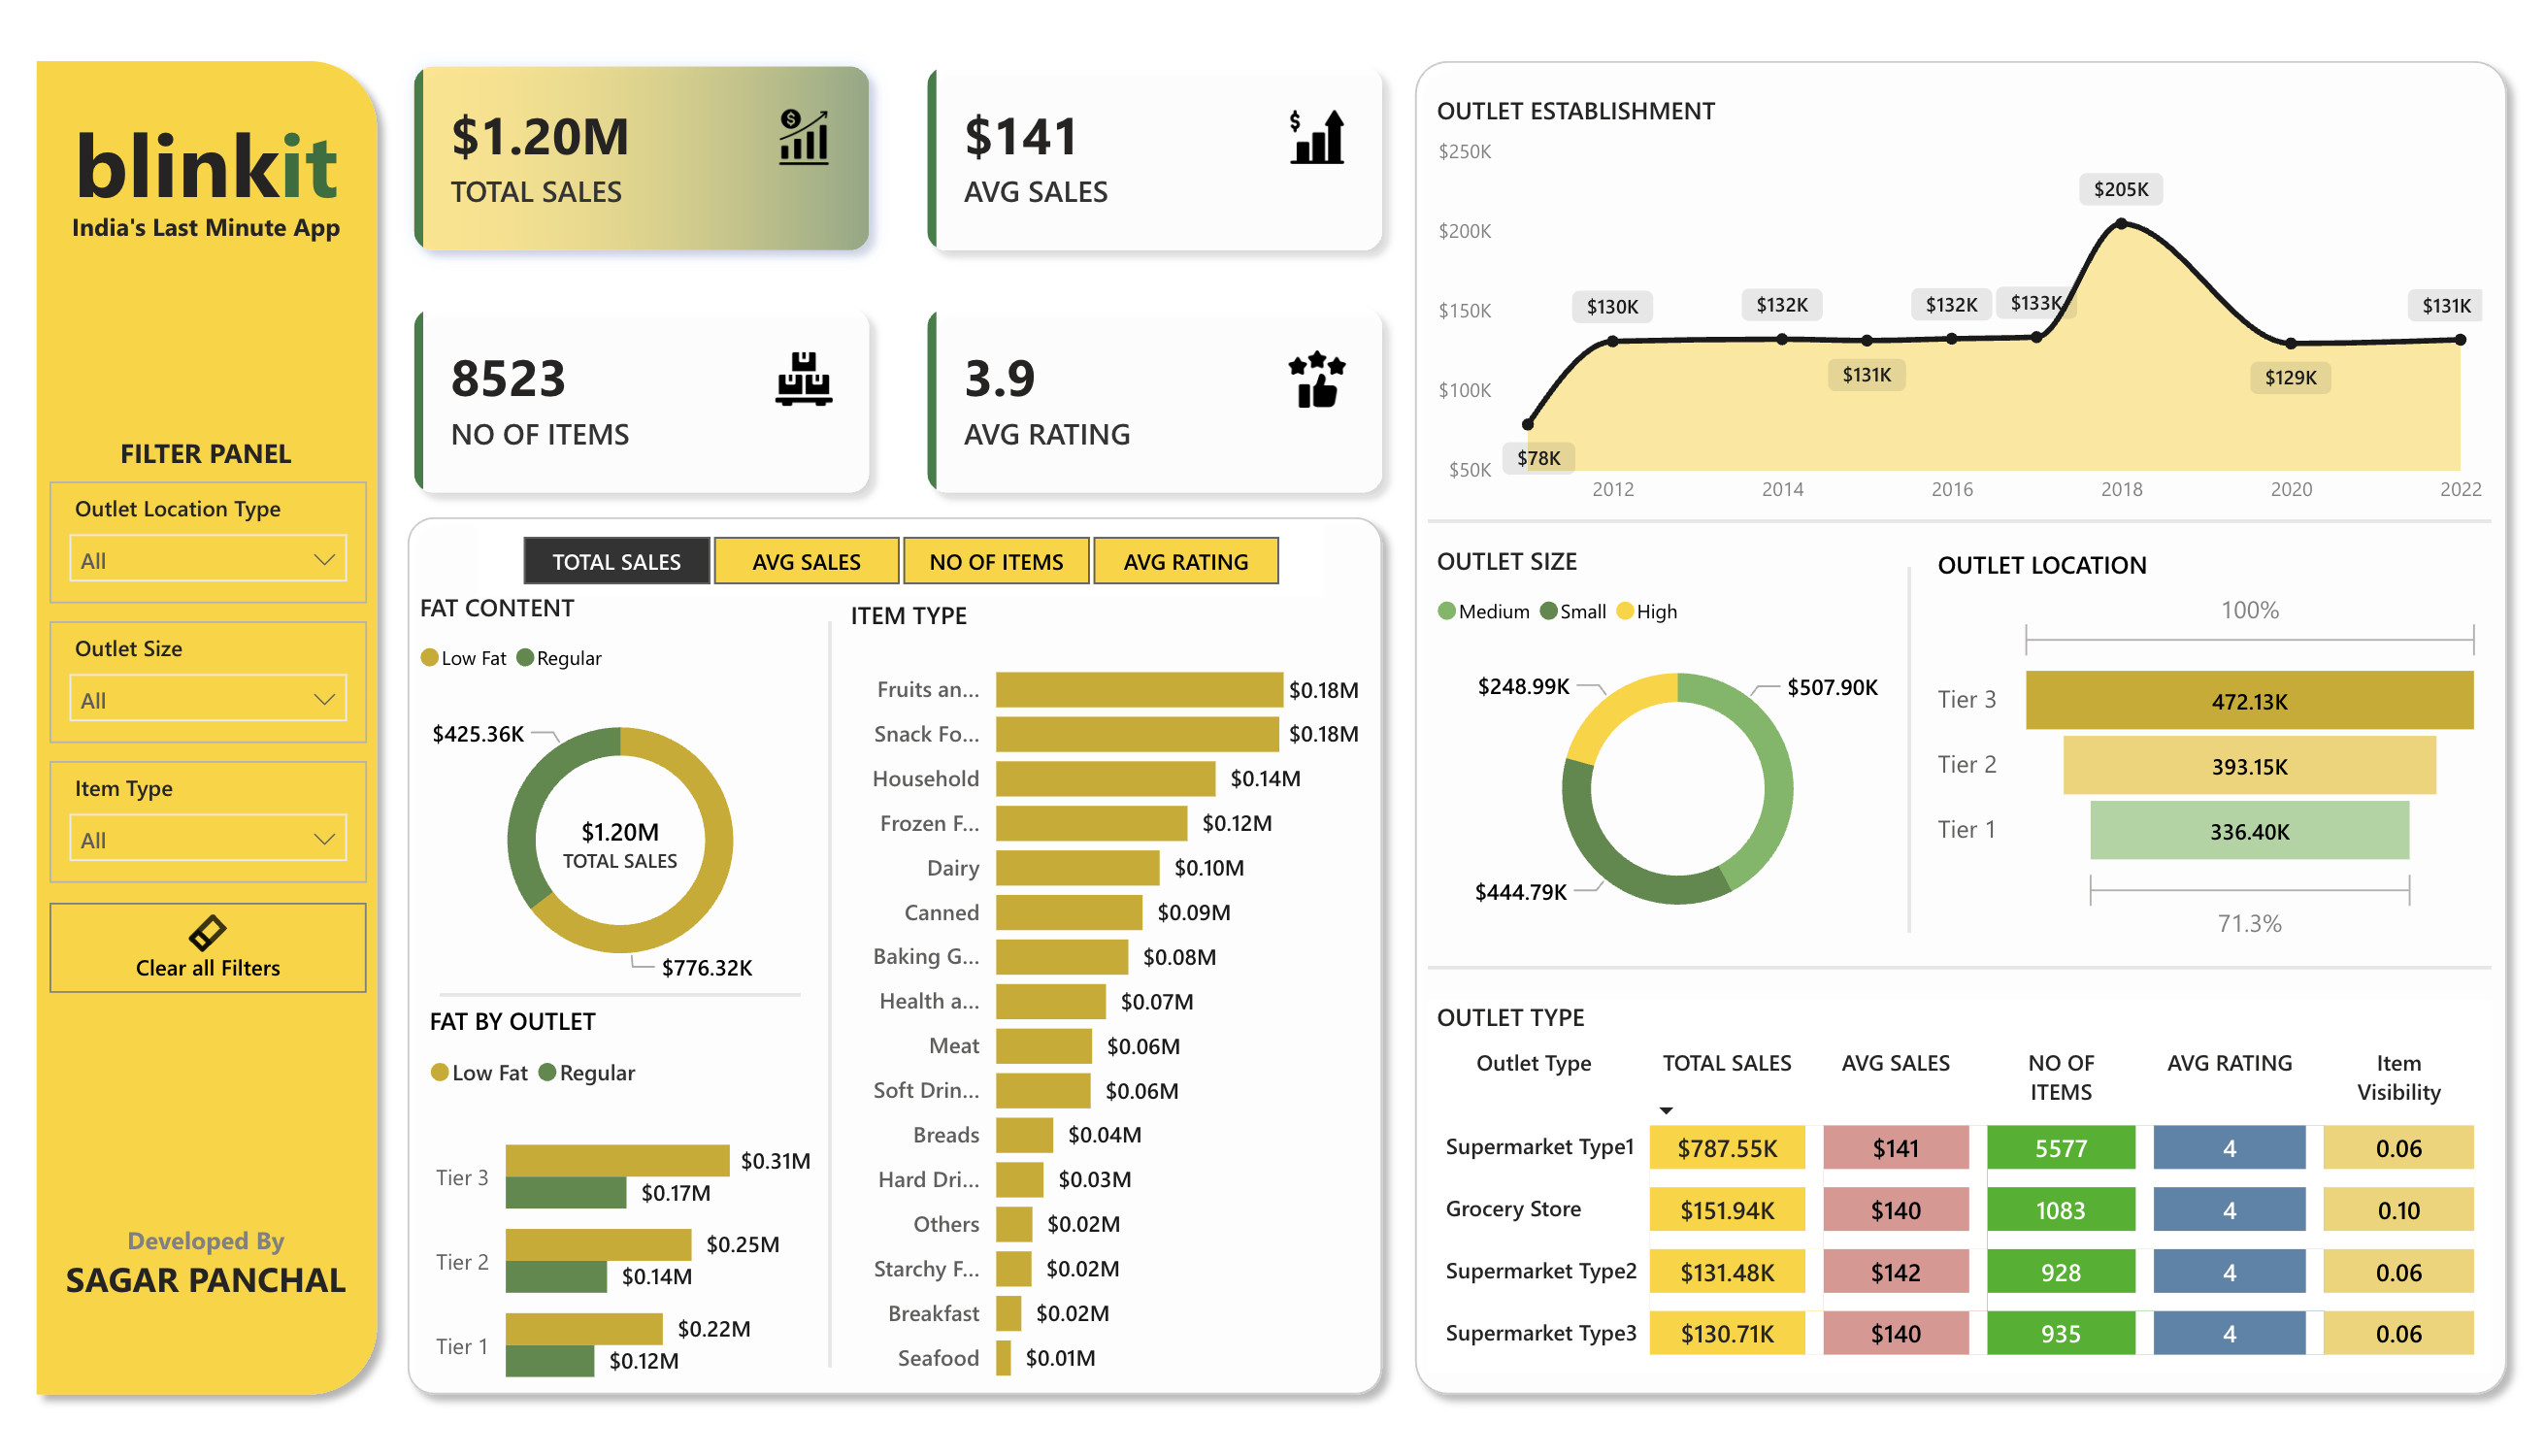

Layout of this report page (visuals, bound fields, positions):
{"tool":"powerbi","page":{"name":"Page 1","canvas":[1400,800],"ordinal":0},"visuals":[{"type":"shape","box":[12.1,24.1,205,750.7],"z":0},{"type":"textbox","box":[24,51,178.6,79.5],"z":1000},{"type":"textbox","box":[24,109.6,178.6,55.5],"z":2000},{"type":"cardVisual","fields":{"Data":["BlinkIT Grocery Data.TOTAL SALES","BlinkIT Grocery Data.AVG SALES","BlinkIT Grocery Data.NO OF ITEMS","BlinkIT Grocery Data.AVG RATING"]},"box":[209.1,24.1,569.7,269.4],"z":3000},{"type":"shape","box":[215.8,274.8,553.6,500],"z":4000},{"type":"donutChart","title":"FAT CONTENT","fields":{"Y":["BlinkIT Grocery Data.TOTAL SALES"],"Category":["BlinkIT Grocery Data.Item Fat Content"]},"box":[226.5,324.4,230.6,230.6],"z":5000},{"type":"slicer","fields":{"Values":["Martics.Martics"]},"box":[262.7,288.2,465.1,40.2],"z":6000},{"type":"cardVisual","fields":{"Data":["BlinkIT Grocery Data.TOTAL SALES"]},"box":[278.8,415.6,126,95.2],"z":7000},{"type":"clusteredBarChart","title":"FAT BY OUTLET","fields":{"Y":["BlinkIT Grocery Data.TOTAL SALES"],"Category":["BlinkIT Grocery Data.Outlet Location Type"],"Series":["BlinkIT Grocery Data.Item Fat Content"]},"box":[231.9,550.9,219.8,230.6],"z":8000},{"type":"shape","box":[242.6,525.5,198.4,41.6],"z":9000},{"type":"shape","box":[446.4,341.8,21.4,410.2],"z":10000},{"type":"barChart","title":"ITEM TYPE","fields":{"Y":["BlinkIT Grocery Data.TOTAL SALES"],"Category":["BlinkIT Grocery Data.Item Type"]},"box":[462.5,328.4,289.5,442.4],"z":11000},{"type":"shape","box":[769.4,24.1,618,750.7],"z":12000},{"type":"lineChart","title":"OUTLET ESTABLISHMENT","fields":{"Y":["BlinkIT Grocery Data.TOTAL SALES"],"Category":["BlinkIT Grocery Data.Outlet Establishment Year"]},"box":[785.5,50.9,584.5,234.6],"z":13000},{"type":"shape","box":[785.5,265.4,584.5,41.6],"z":14000},{"type":"donutChart","title":"OUTLET SIZE","fields":{"Y":["BlinkIT Grocery Data.TOTAL SALES"],"Category":["BlinkIT Grocery Data.Outlet Size"]},"box":[785.5,298.9,274.8,225.2],"z":15000},{"type":"shape","box":[1038.9,311,21.4,201.1],"z":16000},{"type":"funnel","title":"OUTLET LOCATION","fields":{"Y":["Sum(BlinkIT Grocery Data.Sales)"],"Category":["BlinkIT Grocery Data.Outlet Location Type"]},"box":[1060.3,300.3,309.7,221.2],"z":17000},{"type":"shape","box":[785.5,510.7,584.5,41.6],"z":18000},{"type":"pivotTable","title":"OUTLET TYPE","fields":{"Rows":["BlinkIT Grocery Data.Outlet Type"],"Values":["BlinkIT Grocery Data.TOTAL SALES","BlinkIT Grocery Data.AVG SALES","BlinkIT Grocery Data.NO OF ITEMS","BlinkIT Grocery Data.AVG RATING","Avg(BlinkIT Grocery Data.Item Visibility)"]},"box":[785.5,549.6,584.5,205.1],"z":19000},{"type":"slicer","fields":{"Values":["BlinkIT Grocery Data.Outlet Location Type"]},"box":[28.2,264.1,174.3,67],"z":20000},{"type":"slicer","fields":{"Values":["BlinkIT Grocery Data.Outlet Size"]},"box":[28.2,341.8,174.3,67],"z":21000},{"type":"slicer","fields":{"Values":["BlinkIT Grocery Data.Item Type"]},"box":[28.2,418.2,174.3,67],"z":22000},{"type":"textbox","box":[24.1,233.2,178.3,30.8],"z":23000},{"type":"actionButton","box":[28.2,496,174.3,49.6],"z":24000},{"type":"textbox","box":[24.1,666.2,178.3,65.7],"z":25001}]}

Visuals, with their boxes in screenshot pixels (x1, y1, x2, y2), scaled from the page's 1400x800 canvas onto the 2545x1456 screenshot:
shape: 22, 44, 395, 1410
textbox: 44, 93, 368, 238
textbox: 44, 200, 368, 301
cardVisual - BlinkIT Grocery Data.TOTAL SALES x BlinkIT Grocery Data.AVG SALES: 380, 44, 1416, 534
shape: 392, 500, 1399, 1410
"FAT CONTENT" donutChart: 412, 590, 831, 1010
slicer - Martics.Martics: 478, 524, 1323, 598
cardVisual - BlinkIT Grocery Data.TOTAL SALES: 507, 756, 736, 930
"FAT BY OUTLET" clusteredBarChart: 421, 1003, 821, 1422
shape: 441, 956, 802, 1032
shape: 811, 622, 850, 1369
"ITEM TYPE" barChart: 841, 598, 1367, 1403
shape: 1399, 44, 2522, 1410
"OUTLET ESTABLISHMENT" lineChart: 1428, 92, 2491, 519
shape: 1428, 483, 2491, 559
"OUTLET SIZE" donutChart: 1428, 544, 1928, 954
shape: 1889, 566, 1928, 932
"OUTLET LOCATION" funnel: 1928, 546, 2491, 949
shape: 1428, 930, 2491, 1006
"OUTLET TYPE" pivotTable: 1428, 1000, 2491, 1373
slicer - BlinkIT Grocery Data.Outlet Location Type: 51, 480, 368, 603
slicer - BlinkIT Grocery Data.Outlet Size: 51, 622, 368, 744
slicer - BlinkIT Grocery Data.Item Type: 51, 761, 368, 883
textbox: 44, 424, 368, 480
actionButton: 51, 903, 368, 993
textbox: 44, 1212, 368, 1332
